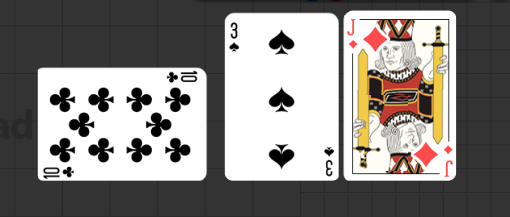10C: (42, 164, 77, 180)
3S: (322, 144, 335, 177)
9D: (443, 144, 456, 178)
